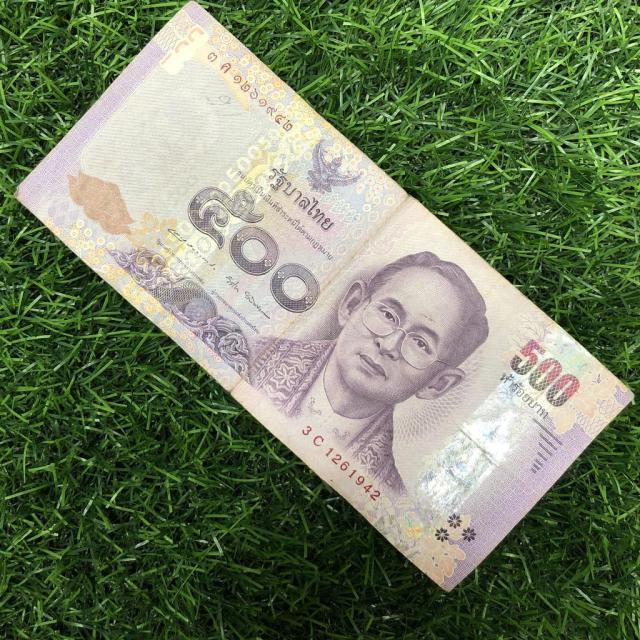THAI500: (16, 2, 634, 594)
